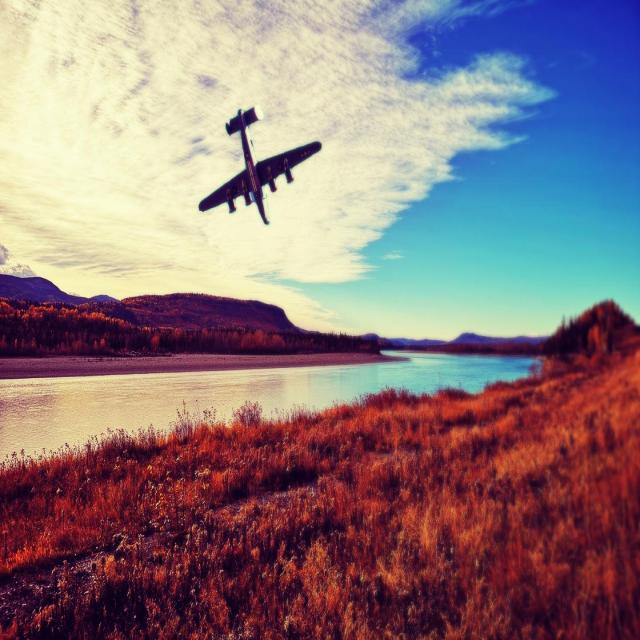airplane: (198, 103, 321, 224)
